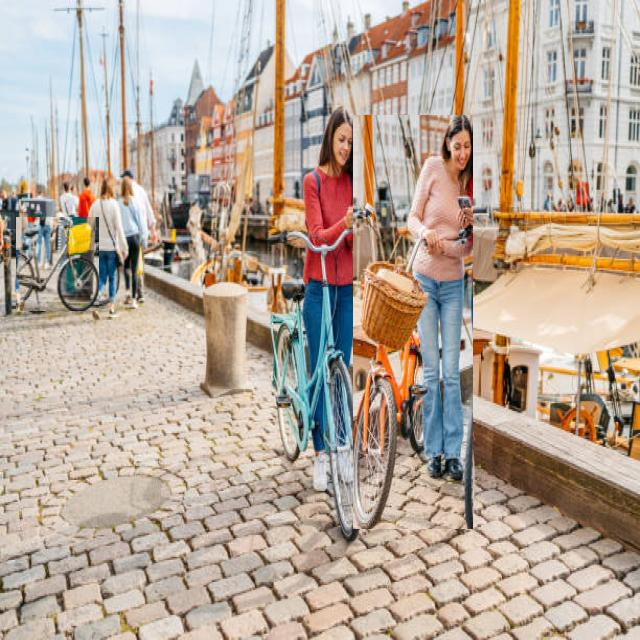bicycle: (354, 116, 473, 529), (271, 107, 366, 539), (16, 217, 99, 311)
